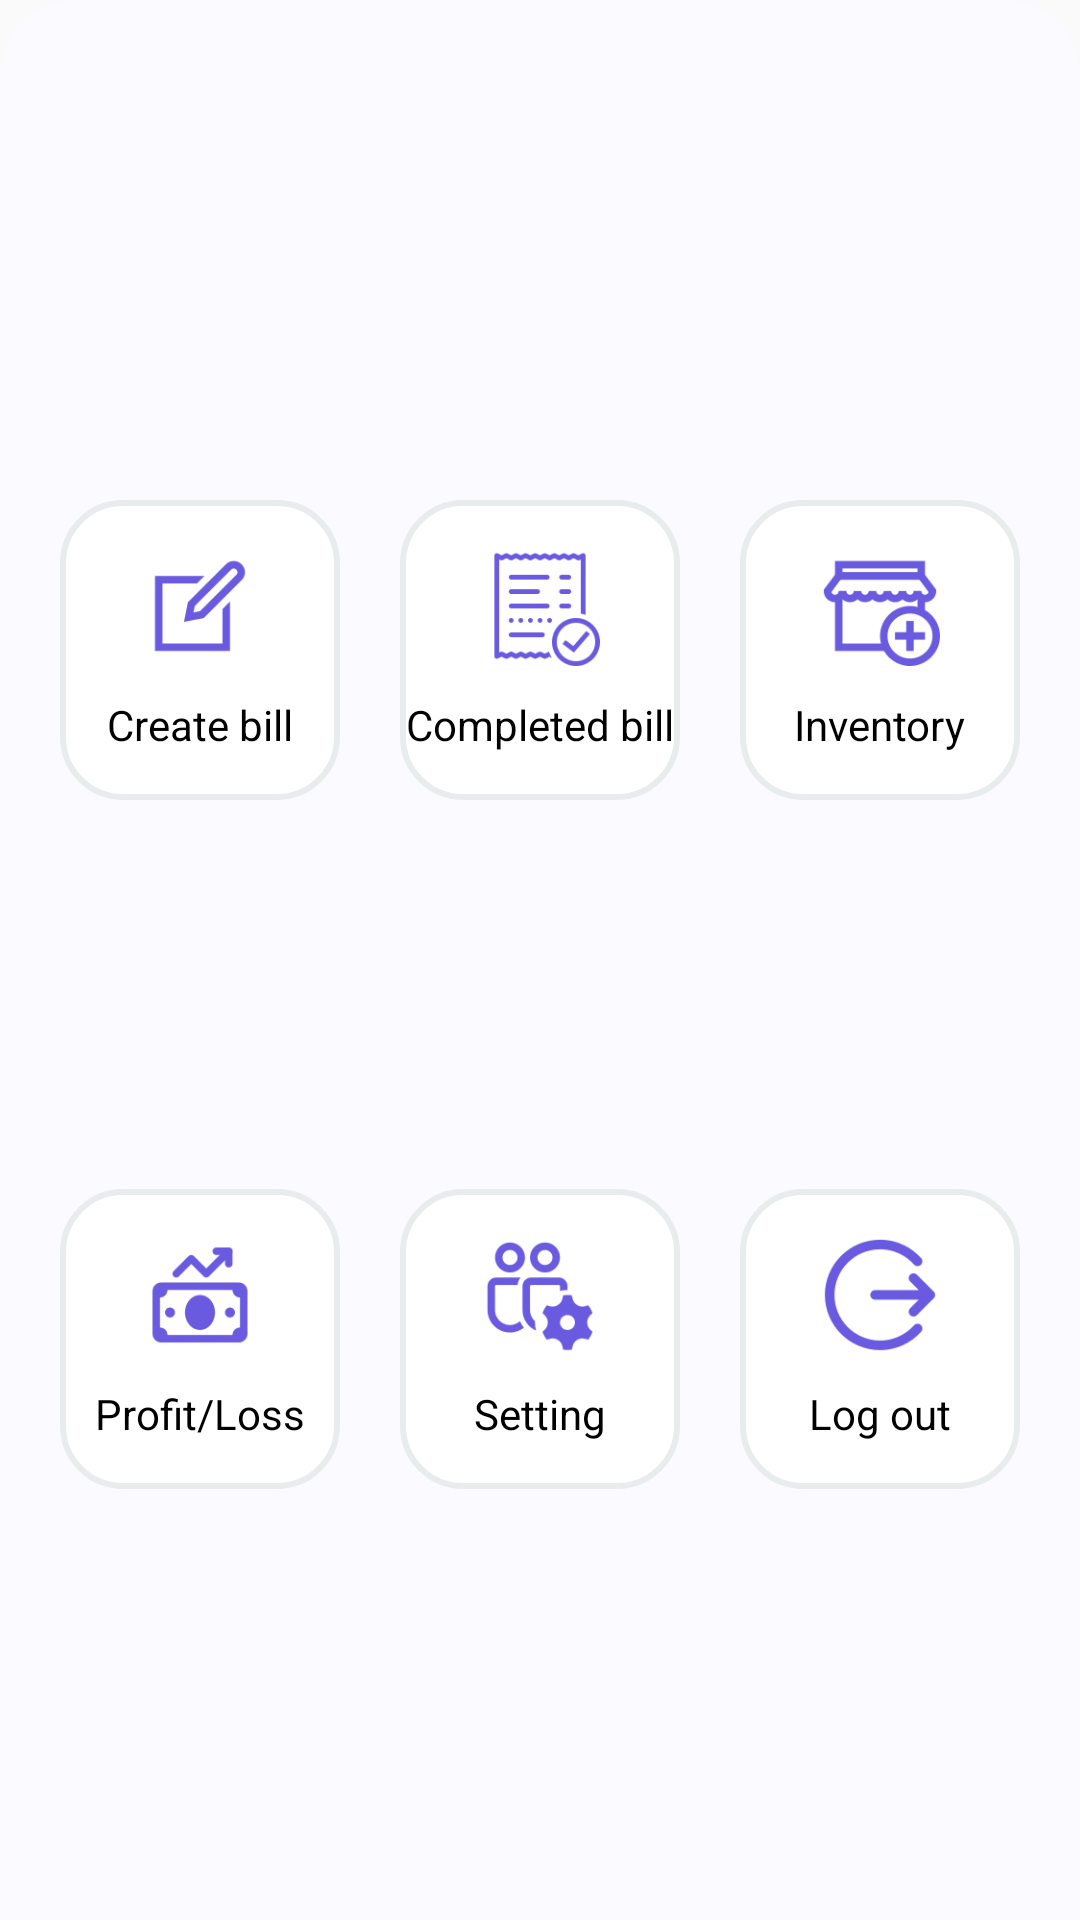

Where to tap for icons on this 1080px×1920px app screen, as point (x, y):
paid bill: point (547, 609)
sign out: point (880, 1295)
store: point (881, 613)
